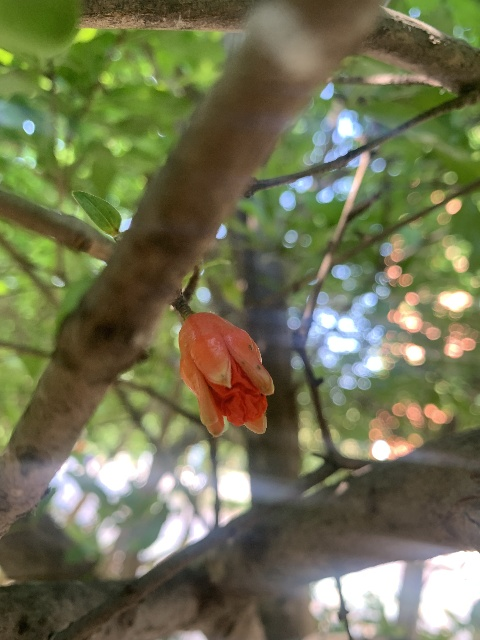flower: (177, 312, 273, 436)
